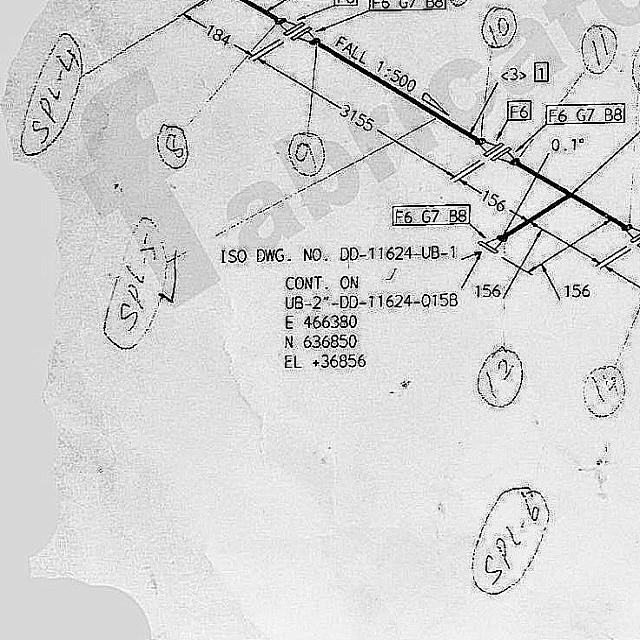Item number: (543, 100, 628, 128), (387, 201, 474, 227), (366, 0, 449, 13), (506, 95, 534, 123), (531, 58, 552, 83), (329, 0, 361, 9)
Measrement: (248, 51, 464, 185), (331, 30, 461, 122), (471, 218, 608, 305), (524, 217, 619, 303), (175, 9, 263, 61), (450, 175, 533, 226), (549, 133, 585, 157)
Pipeline: (317, 40, 476, 140), (505, 162, 627, 239), (237, 2, 281, 22)
Symbol: (278, 15, 320, 50), (477, 135, 519, 166), (473, 231, 506, 261)
Weld number: (472, 347, 529, 413), (579, 360, 629, 423), (578, 18, 622, 78), (477, 3, 521, 54), (285, 132, 328, 179), (154, 122, 192, 173)
other: (281, 275, 462, 373), (219, 243, 461, 265)
